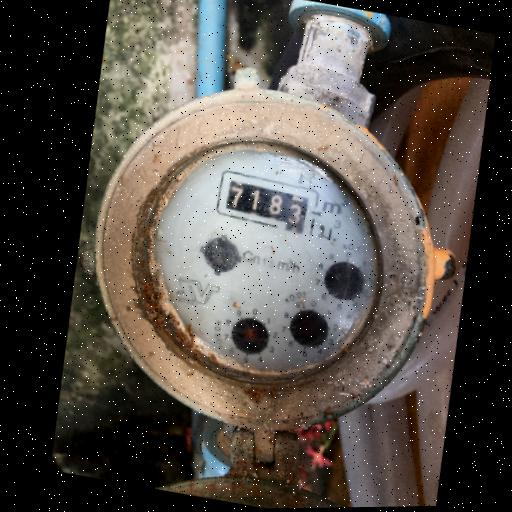1: (242, 183, 271, 217)
3: (281, 193, 311, 235)
7: (224, 180, 251, 213)
8: (261, 188, 293, 223)
border_water_meter_number: (211, 168, 324, 238)
